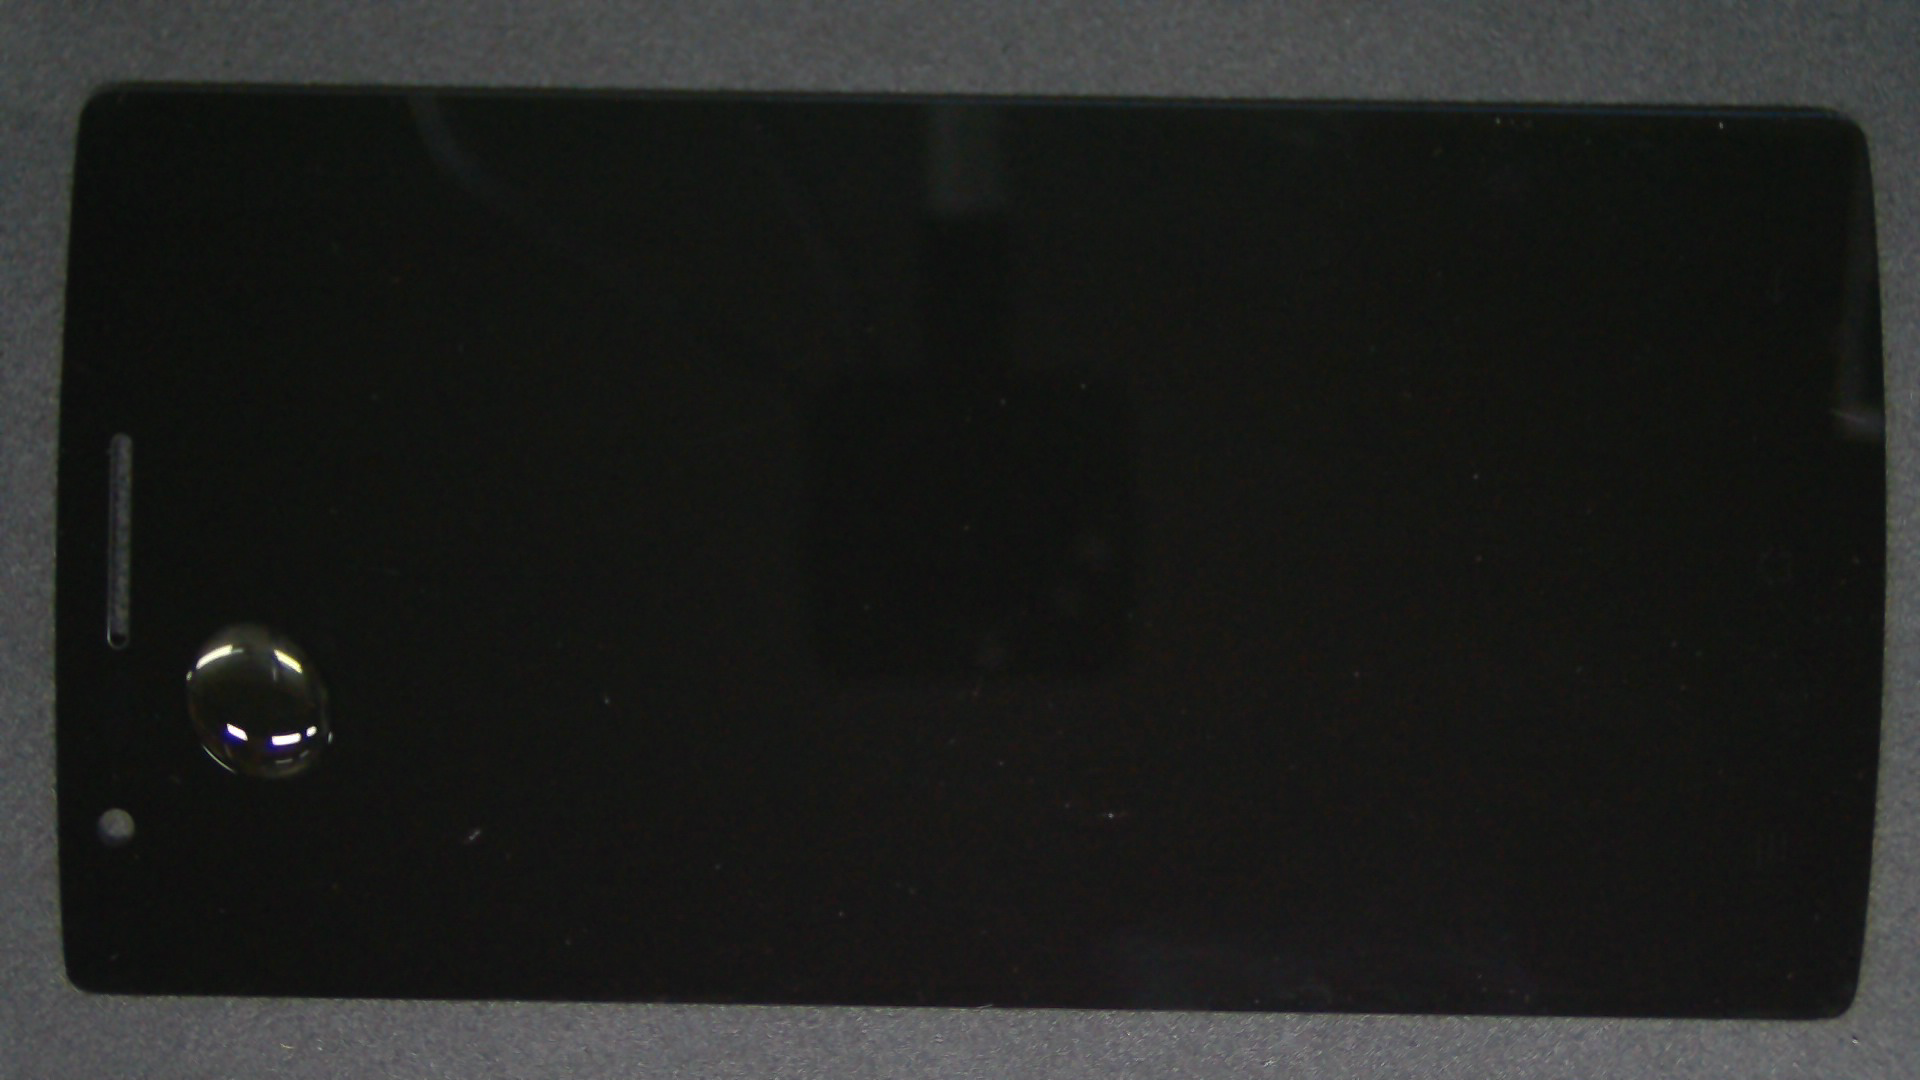defect: (185, 624, 332, 778)
